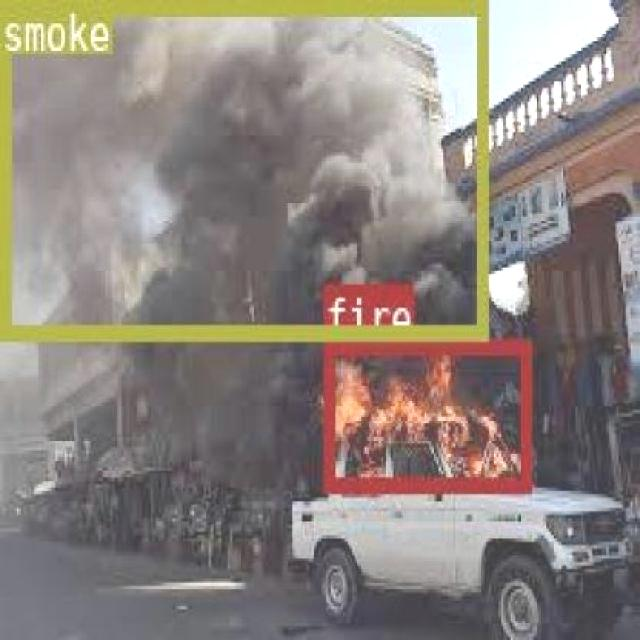fire: (323, 338, 528, 488)
smoke: (0, 0, 486, 335)
